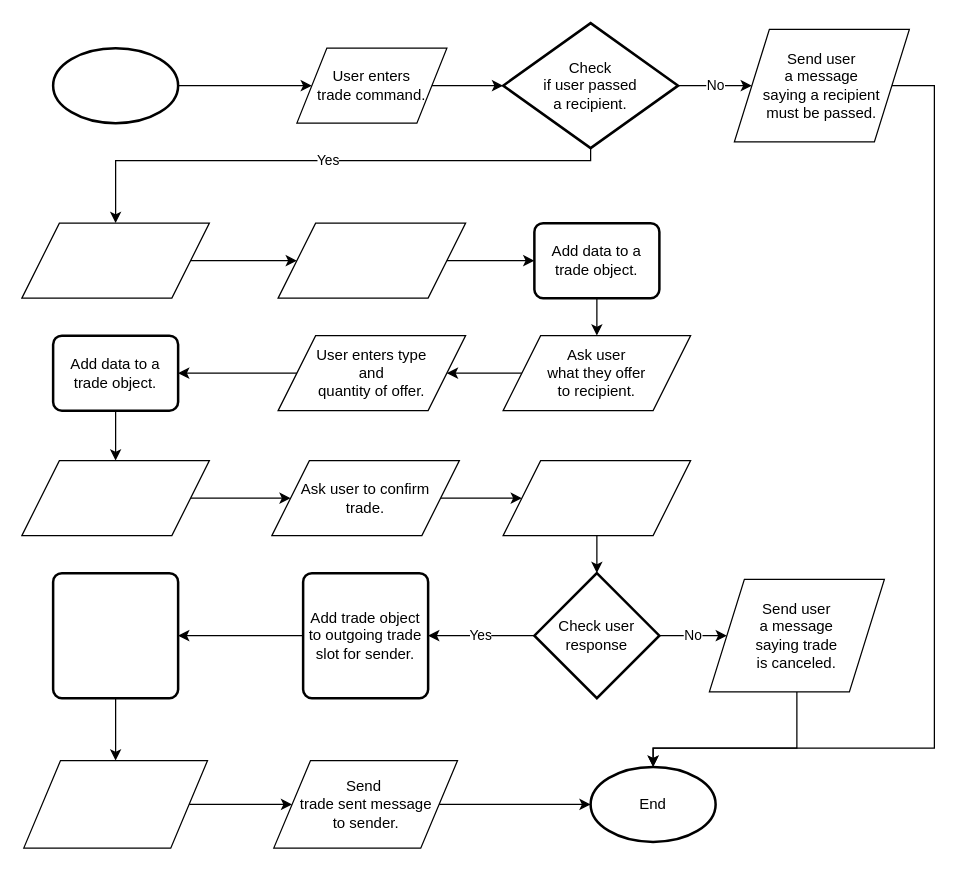
Image size: 966x870. Some labels were removed from this diagram. Each missing label, with the box of its shape:
Add trade object to incoming trade slot for recipient.: (51, 571, 179, 699)
Ask user what they request from recipient.: (21, 222, 209, 298)
Send incoming trade message to recipient.: (22, 759, 208, 848)
Send user a preview of the trade.: (21, 459, 209, 536)
Start: (51, 46, 179, 124)
User enters type and quantity of request.: (277, 222, 466, 298)
User responds with yes or no.: (502, 459, 691, 536)
